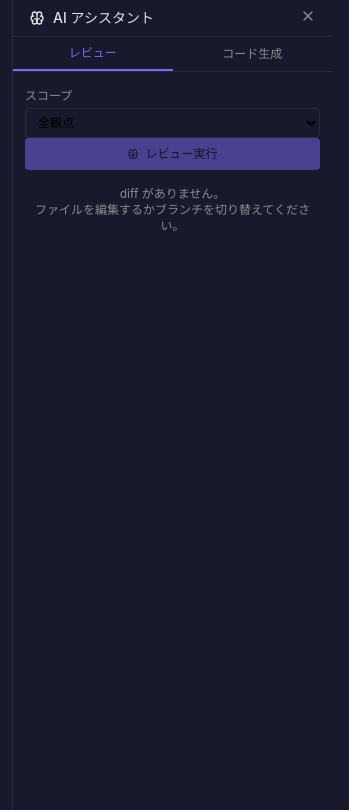
Test case: AiAssistant › 「コード生成」タブをクリックすると generate コンテンツが表示される
Step 1. Click the button "コード生成" → [252, 54], box [172, 37, 332, 71]
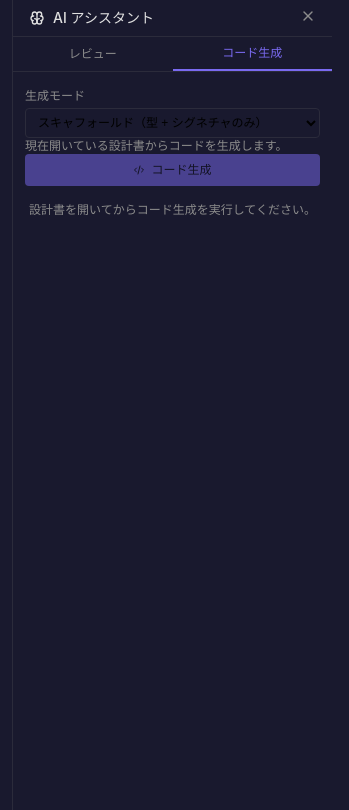
Expected: the text "生成モード" is shown, [25, 88, 85, 103]
